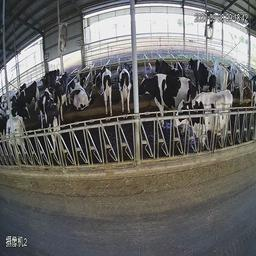cow: (170, 86, 230, 157), (139, 71, 192, 124), (42, 92, 64, 160), (22, 109, 46, 163), (189, 49, 217, 91), (116, 55, 133, 119), (69, 68, 94, 111), (97, 64, 115, 121), (2, 110, 22, 159), (230, 56, 249, 107), (58, 72, 74, 113), (40, 68, 59, 98), (219, 58, 230, 93)
